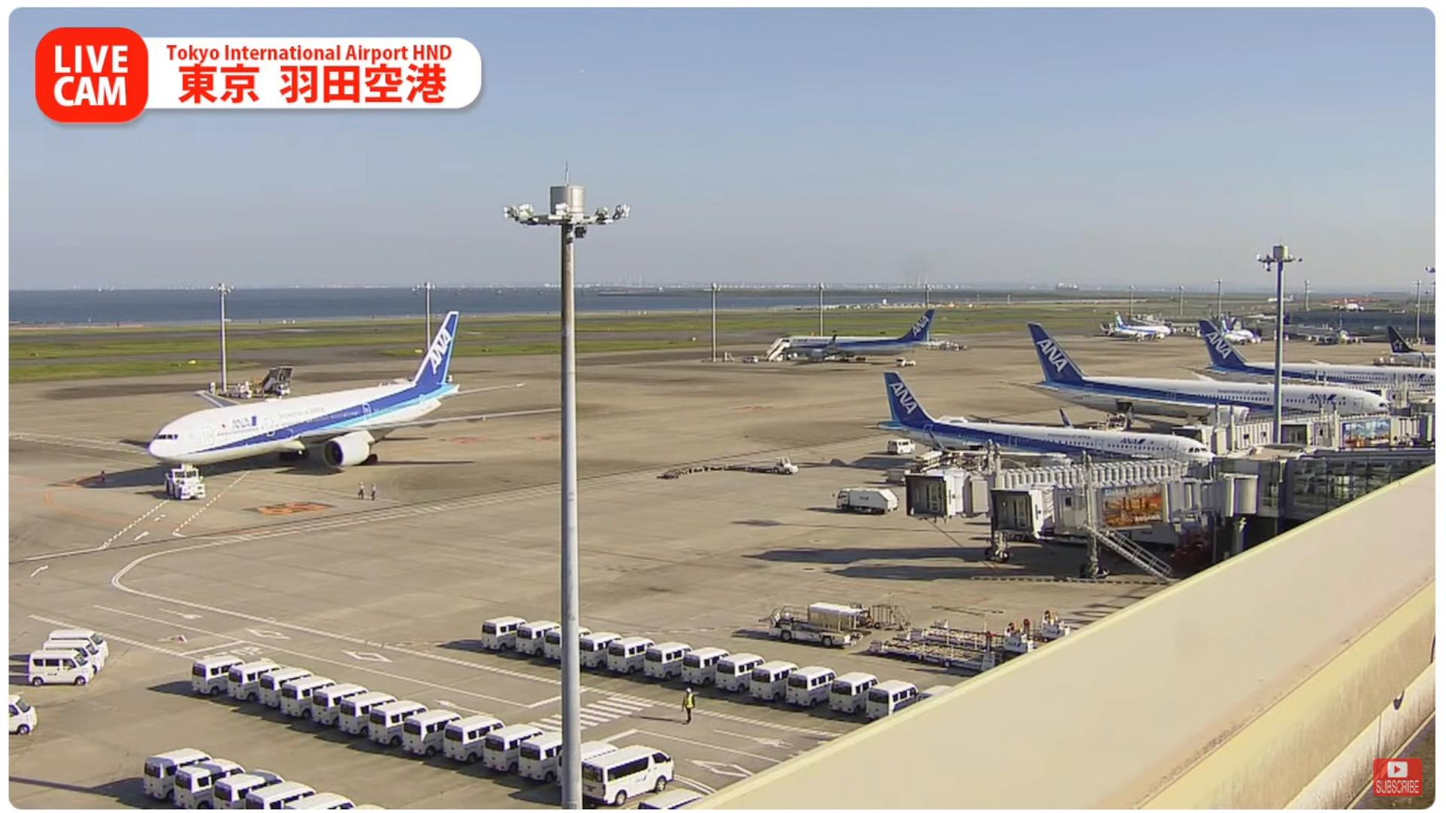APS: (160, 463, 211, 502)
Aerobridge: (904, 456, 1198, 520), (990, 479, 1258, 539)
Airplane: (149, 308, 578, 472)
JCPL: (904, 613, 1077, 658), (867, 634, 1012, 675)
Skyloader: (761, 600, 870, 651)
Window: (1281, 462, 1437, 524)
